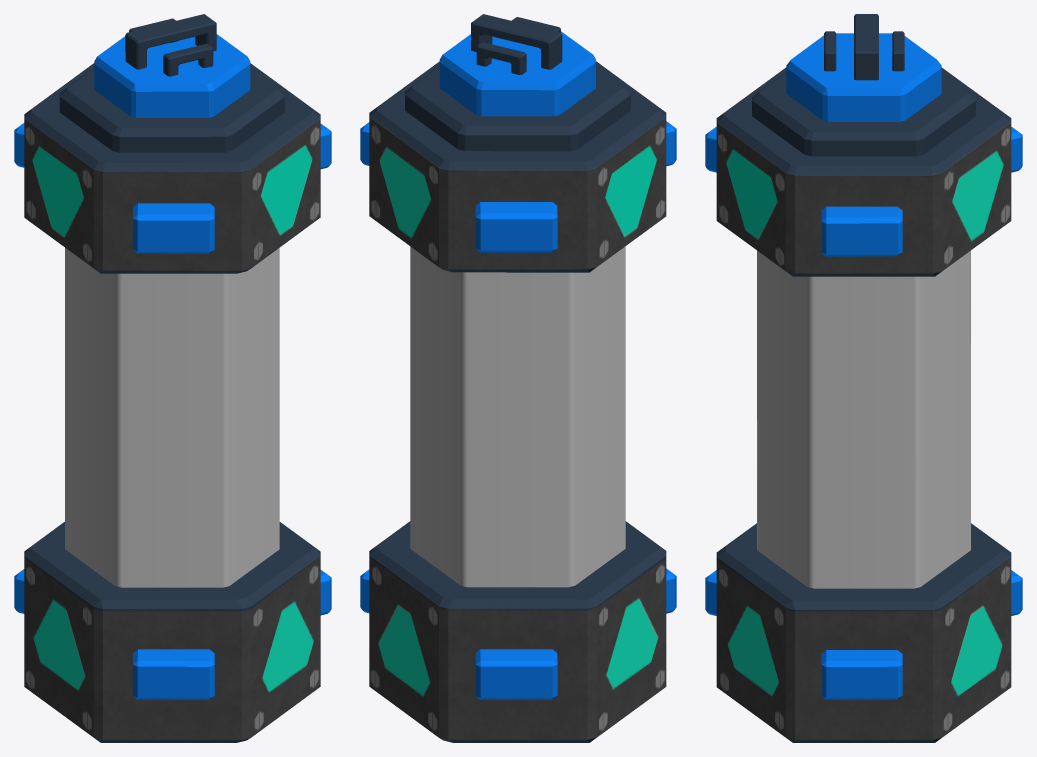
The model's file is SM_Props_20.fbx.
3 renders of one model, left to right at view 1: azimuth 30°, elevation 25°; view 2: azimuth 150°, elevation 25°; view 3: azimuth 270°, elevation 25°, orthographic.
Parts seen in each view (by area): view 1: SM_Props_20; view 2: SM_Props_20; view 3: SM_Props_20.
Part boxes in pixels (left/top/right/bottom): SM_Props_20: left=14, top=14, right=331, bottom=742; SM_Props_20: left=360, top=14, right=676, bottom=742; SM_Props_20: left=705, top=14, right=1022, bottom=742.
Bounding box in the file's own units: 26.36 × 28.72 × 65.68.
Materials: 2 (1 with a texture image).
